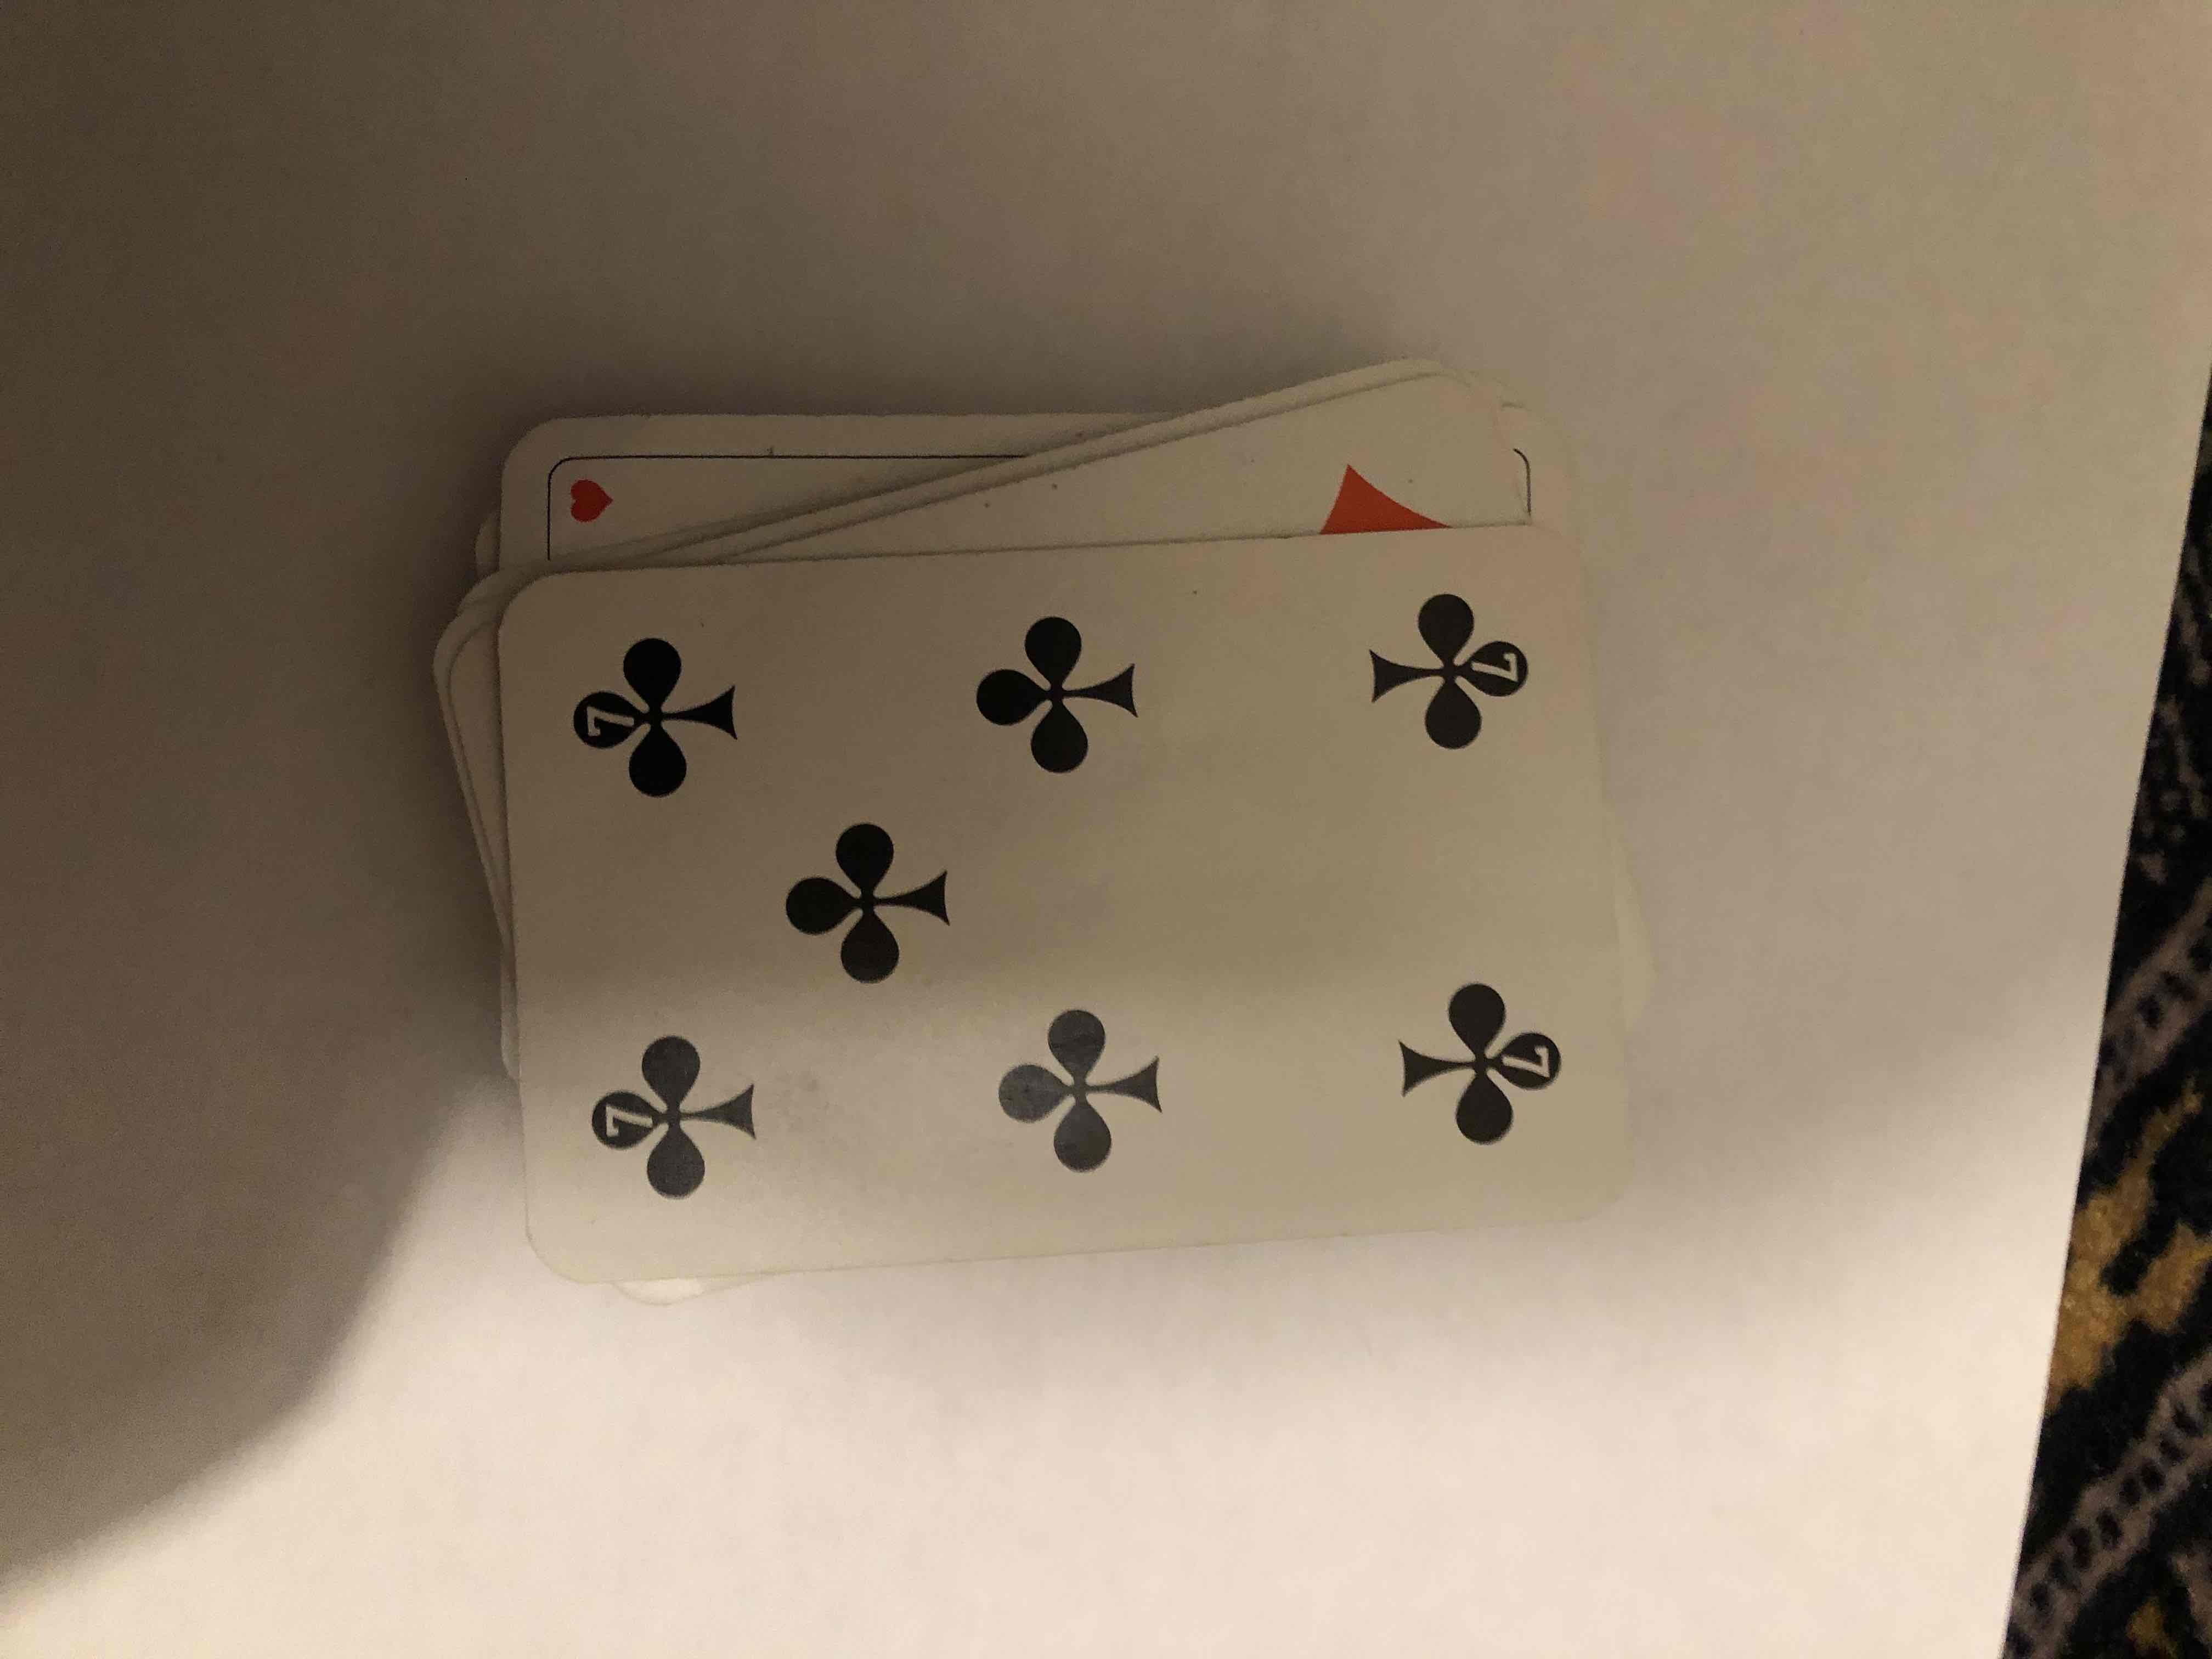clubs7: (535, 538, 1663, 1251)
